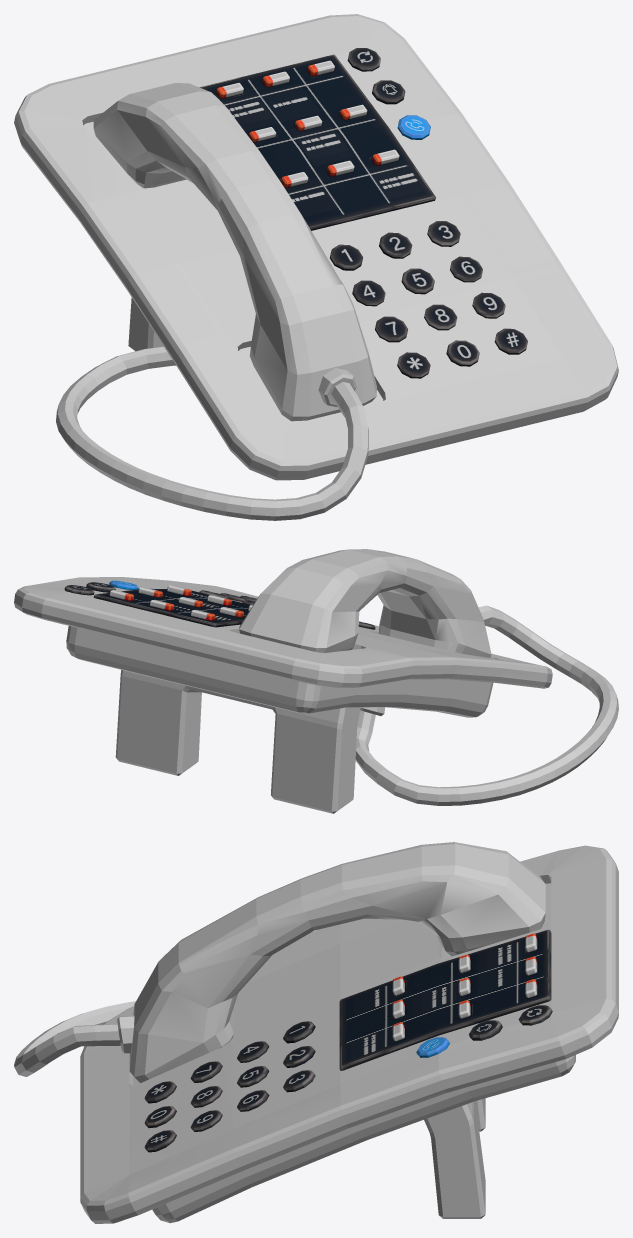
Rendered from Desk Phone V1 – Modern Office.fbx.
3 views of the same model, one above another, from view 1: azimuth 30°, elevation 25°; view 2: azimuth 150°, elevation 25°; view 3: azimuth 270°, elevation 25° (orthographic). The views are drawn at different scales.
Visible parts, largest first — view 1: Desk_Phone_1_5_TX_Desk_Phone_1_3_0, Desk_Phone_1_5_TX_Desk_Phone_1_4_0; view 2: Desk_Phone_1_5_TX_Desk_Phone_1_3_0, Desk_Phone_1_5_TX_Desk_Phone_1_4_0; view 3: Desk_Phone_1_5_TX_Desk_Phone_1_3_0, Desk_Phone_1_5_TX_Desk_Phone_1_4_0.
Boxes of the visible parts, x1=… form: Desk_Phone_1_5_TX_Desk_Phone_1_3_0: x1=14, y1=14, x2=618, y2=520; Desk_Phone_1_5_TX_Desk_Phone_1_4_0: x1=199, y1=48, x2=527, y2=378; Desk_Phone_1_5_TX_Desk_Phone_1_3_0: x1=14, y1=549, x2=618, y2=813; Desk_Phone_1_5_TX_Desk_Phone_1_4_0: x1=64, y1=580, x2=375, y2=629; Desk_Phone_1_5_TX_Desk_Phone_1_3_0: x1=14, y1=842, x2=618, y2=1223; Desk_Phone_1_5_TX_Desk_Phone_1_4_0: x1=144, y1=929, x2=552, y2=1152.
Bounding box in the file's own units: 37.43 × 19.15 × 40.23.
